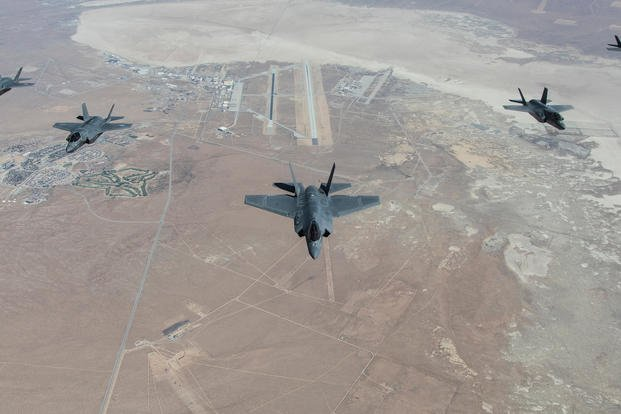F-35 Lightning: (240, 144, 388, 266), (500, 82, 581, 148), (50, 94, 138, 154)
